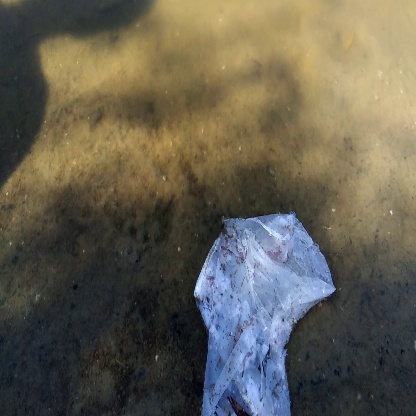plastic-bag: (187, 208, 338, 402)
